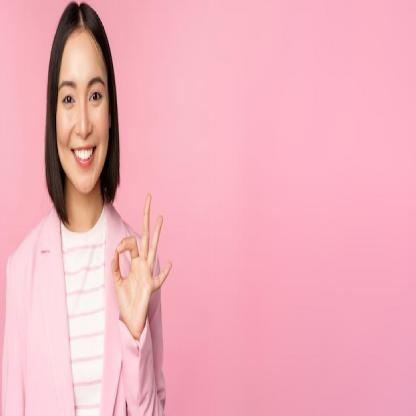ok: (109, 188, 173, 341)
